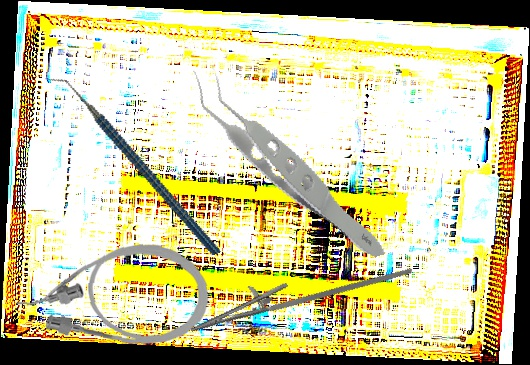Cannula: (14, 237, 213, 349)
Chopper: (44, 41, 221, 290)
Needle Holder: (184, 227, 413, 358)
Tissue Forceps: (191, 32, 387, 292)
